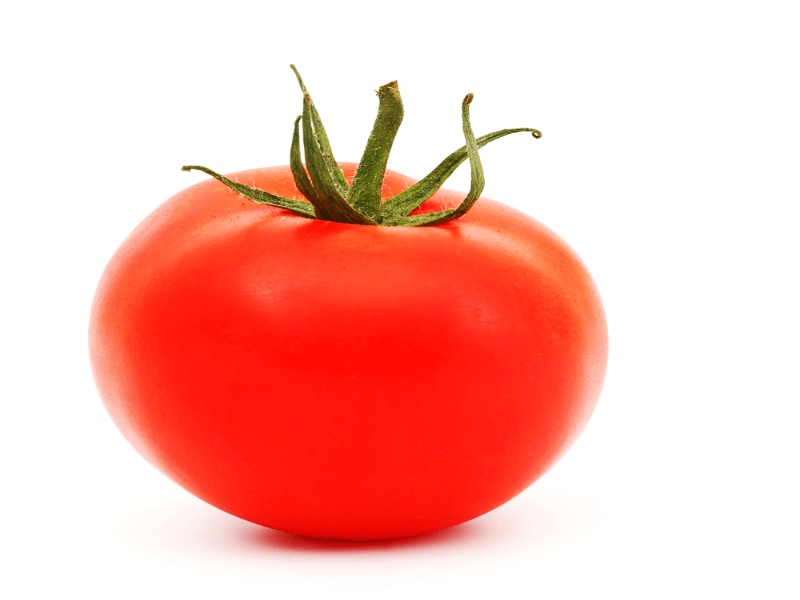Tomate: (88, 63, 607, 538)
